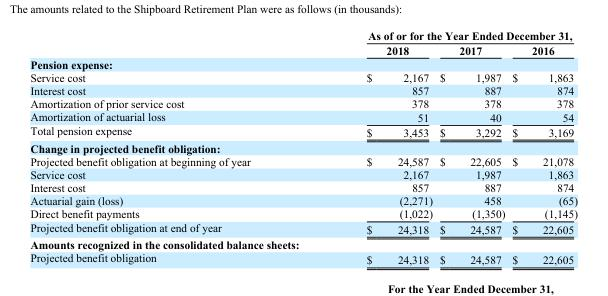table: (29, 28, 577, 265)
table column: (29, 28, 307, 265), (307, 28, 435, 265), (435, 28, 507, 265), (507, 28, 577, 265)
table column header: (29, 28, 577, 56)
table projected row header: (29, 139, 577, 154), (29, 236, 577, 251), (29, 56, 577, 70)
table row: (29, 123, 577, 139), (29, 220, 577, 236), (29, 139, 577, 154), (29, 236, 577, 251), (29, 28, 577, 42), (29, 42, 577, 56), (29, 56, 577, 70), (29, 109, 577, 123), (29, 206, 577, 220), (29, 251, 577, 265), (29, 70, 577, 83), (29, 83, 577, 96), (29, 96, 577, 109), (29, 154, 577, 167), (29, 167, 577, 180), (29, 180, 577, 193), (29, 193, 577, 206)
table spanning cell: (307, 28, 577, 42)
